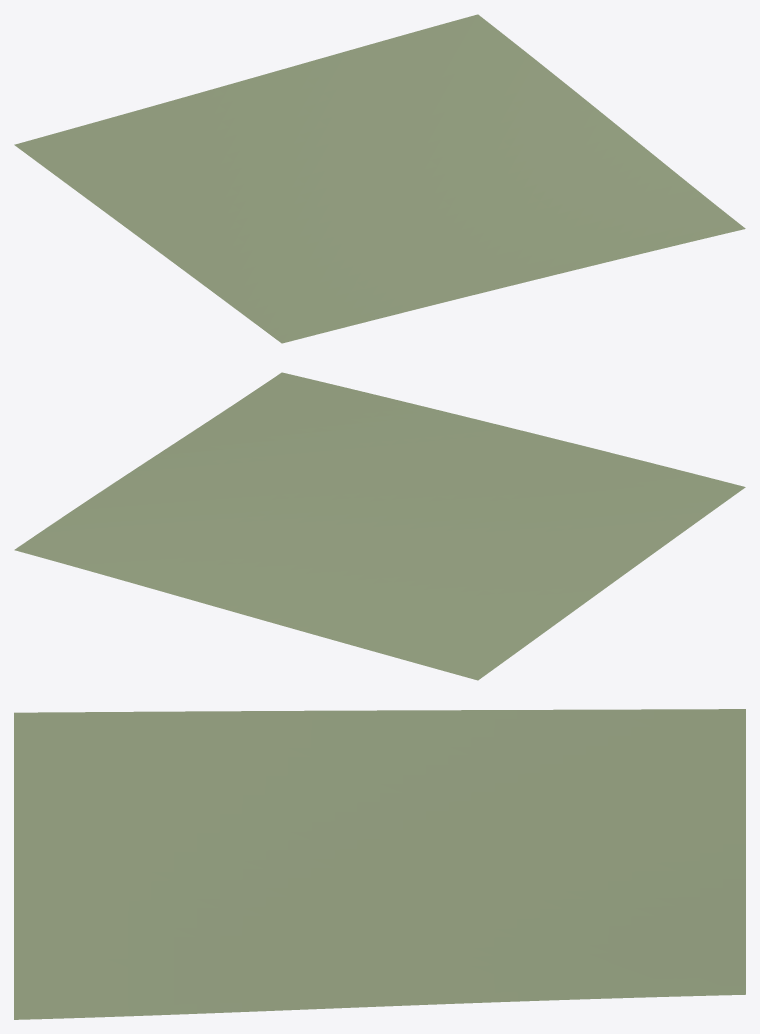
The model's file is desert-20-8.glb.
The picture shows the model from 3 angles, top to bottom: view 1: azimuth 30°, elevation 25°; view 2: azimuth 150°, elevation 25°; view 3: azimuth 270°, elevation 25°; orthographic projection. The views are drawn at different scales.
Visible parts, largest first — view 1: desert-20-8; view 2: desert-20-8; view 3: desert-20-8.
Part boxes in pixels (<box>): desert-20-8: <box>14,14,745,343</box>; desert-20-8: <box>14,372,745,680</box>; desert-20-8: <box>14,709,745,1019</box>.
Bounding box in the file's own units: 512 × 21 × 512.
